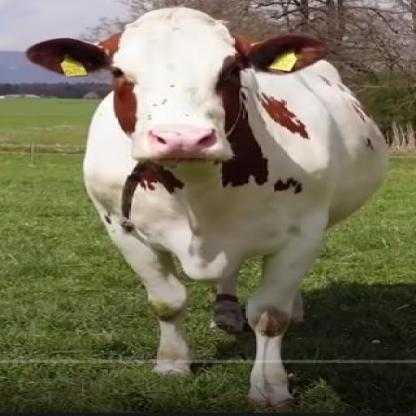cow: (27, 6, 390, 416)
